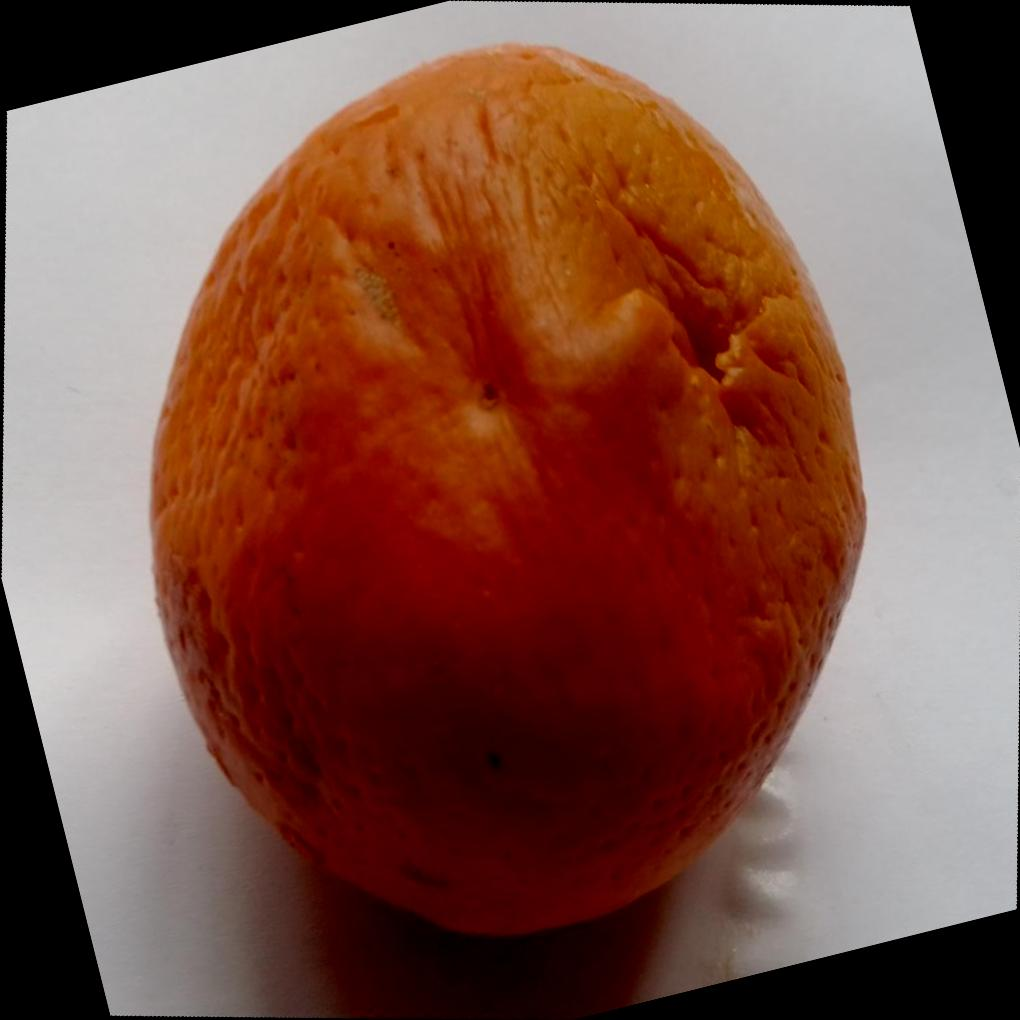FreshOrange: (149, 38, 871, 938)
